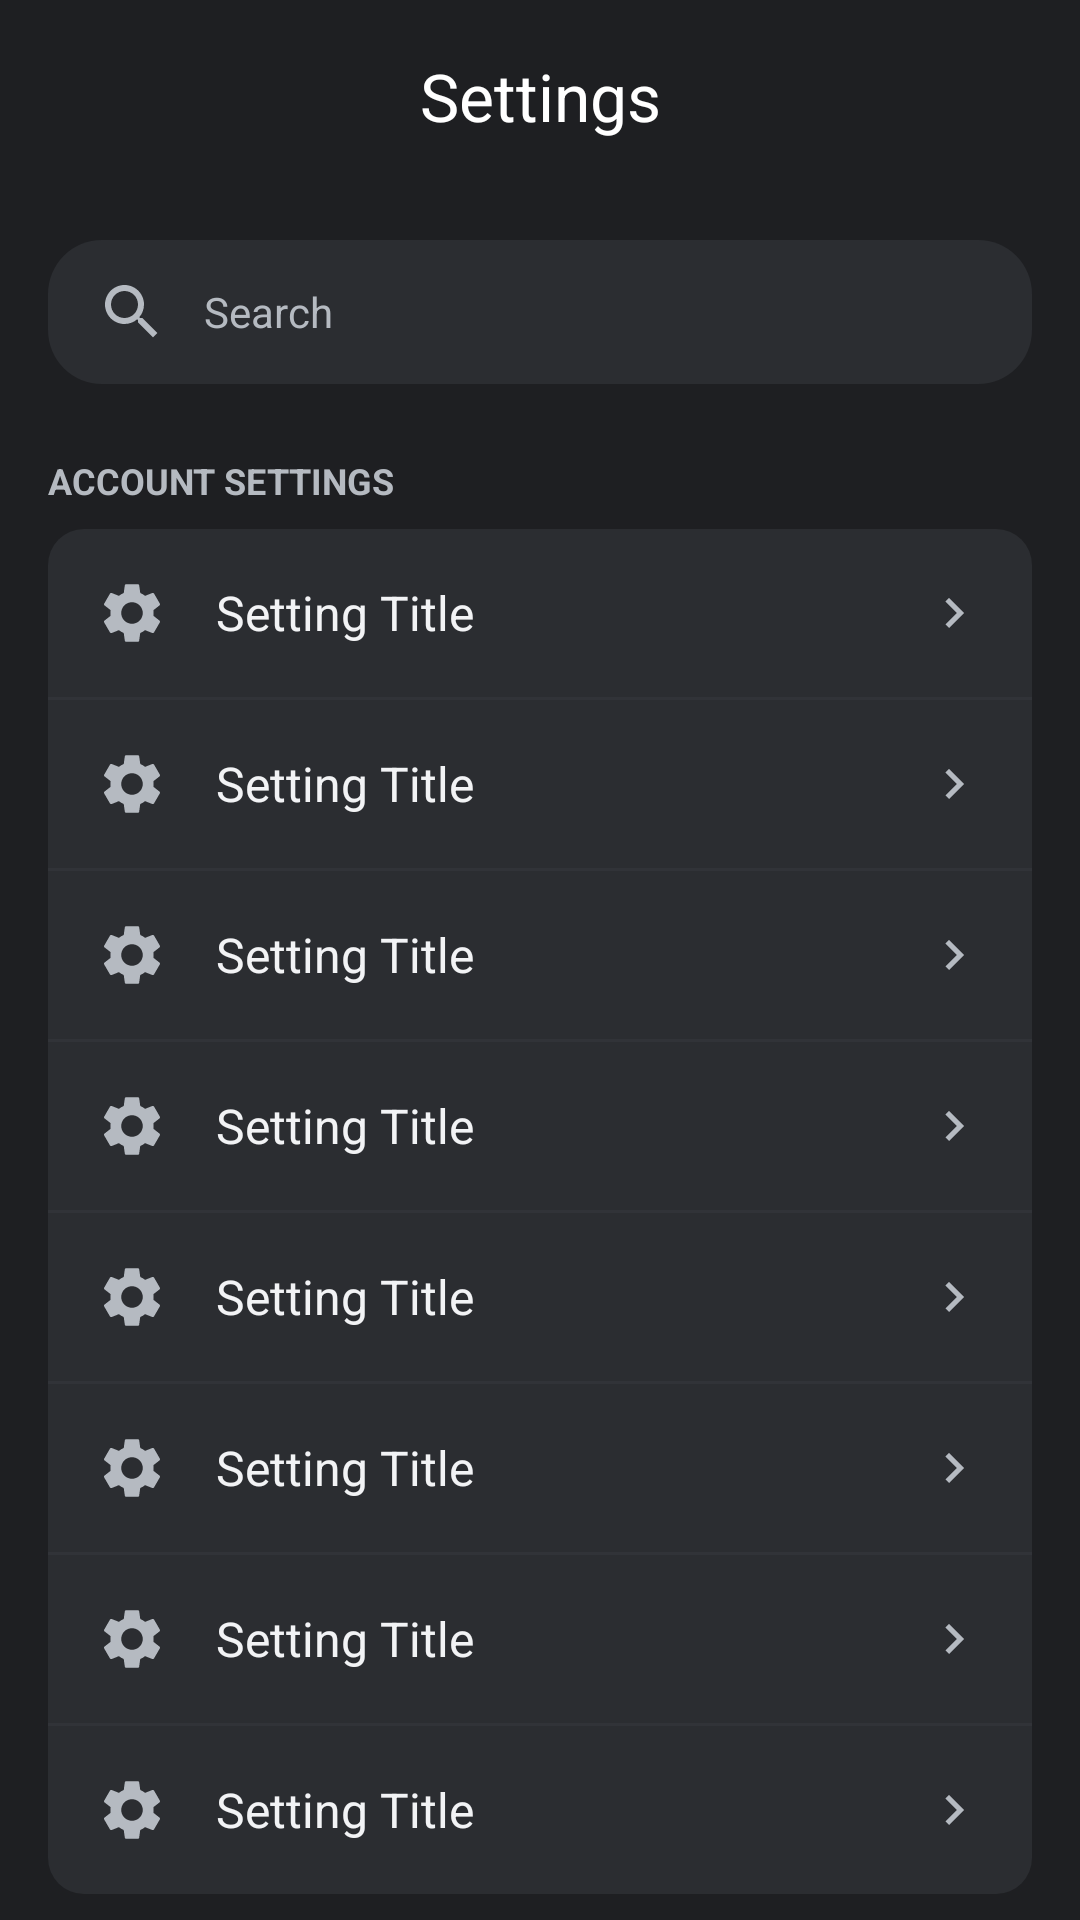

Icons on this 1080×1920 Android screen, each with the point to tap as point (x, y):
chevron right: point (954, 613), point (954, 784), point (954, 955), point (954, 1126), point (954, 1297), point (954, 1468), point (954, 1639), point (954, 1810)
